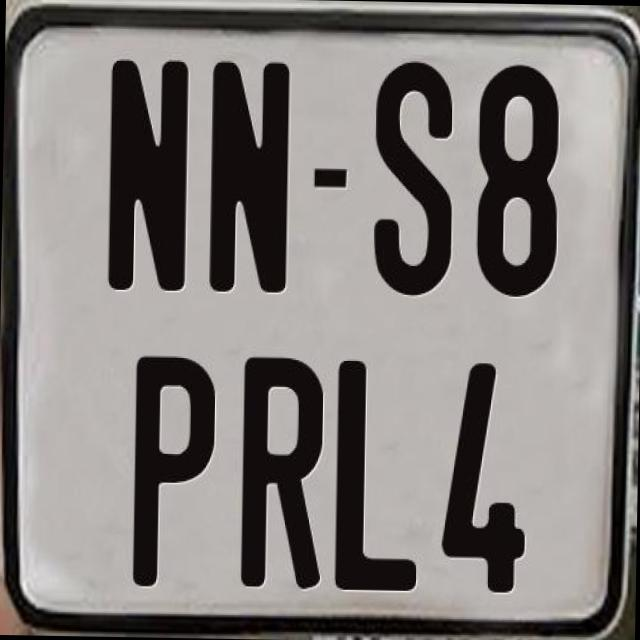4: (440, 358, 534, 592)
8: (475, 61, 559, 296)
L: (332, 355, 424, 586)
N: (106, 59, 194, 298), (207, 61, 291, 296)
P: (128, 355, 214, 587)
R: (240, 356, 322, 590)
S: (371, 56, 457, 292)
